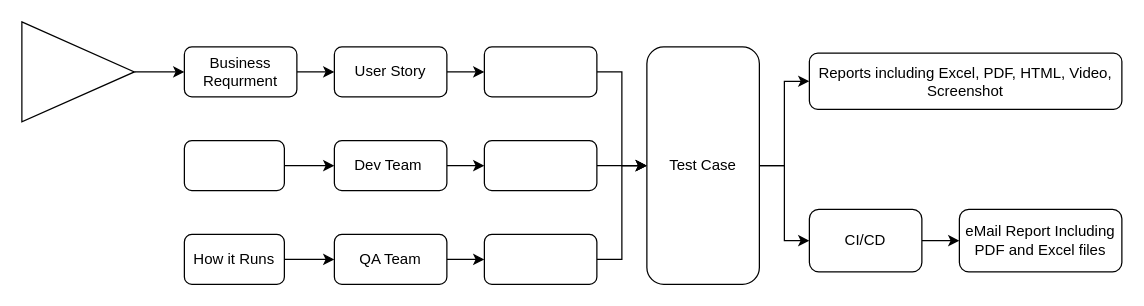
This 1144x306 diagram has some shape labels left out. Each missing label, with the centre of its shape:
"Automation Engine" goes at pixel 540 258.
"BDD" goes at pixel 540 71.
"Where it Starts" goes at pixel 77 71.
"Where we Store" goes at pixel 233 165.
"Yaml Element Storage" goes at pixel 540 165.
